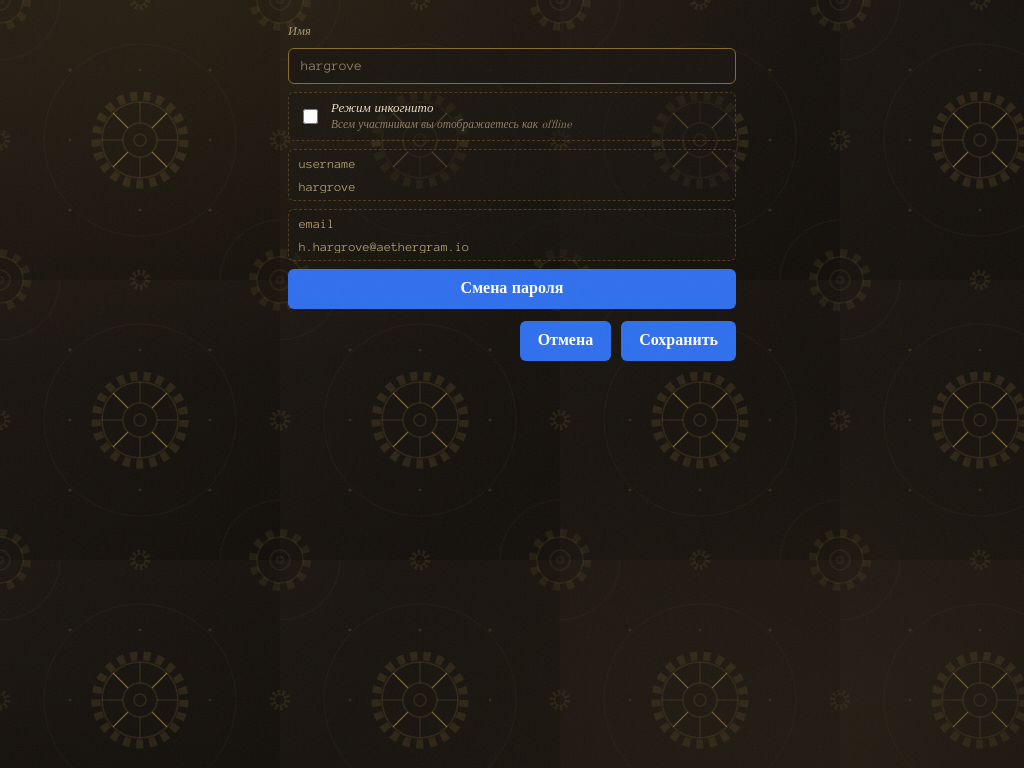
Test: ProfileModal › saves the unchanged off mode: PUT false, toast without the incognito suffix
Expected: the text "hargrove" is shown, [299,180,356,193]
What coordinates should you click on to do the following:
click the button "Сохранить"
I would click on:
 (679, 341)
Its box is [621,321,736,361].
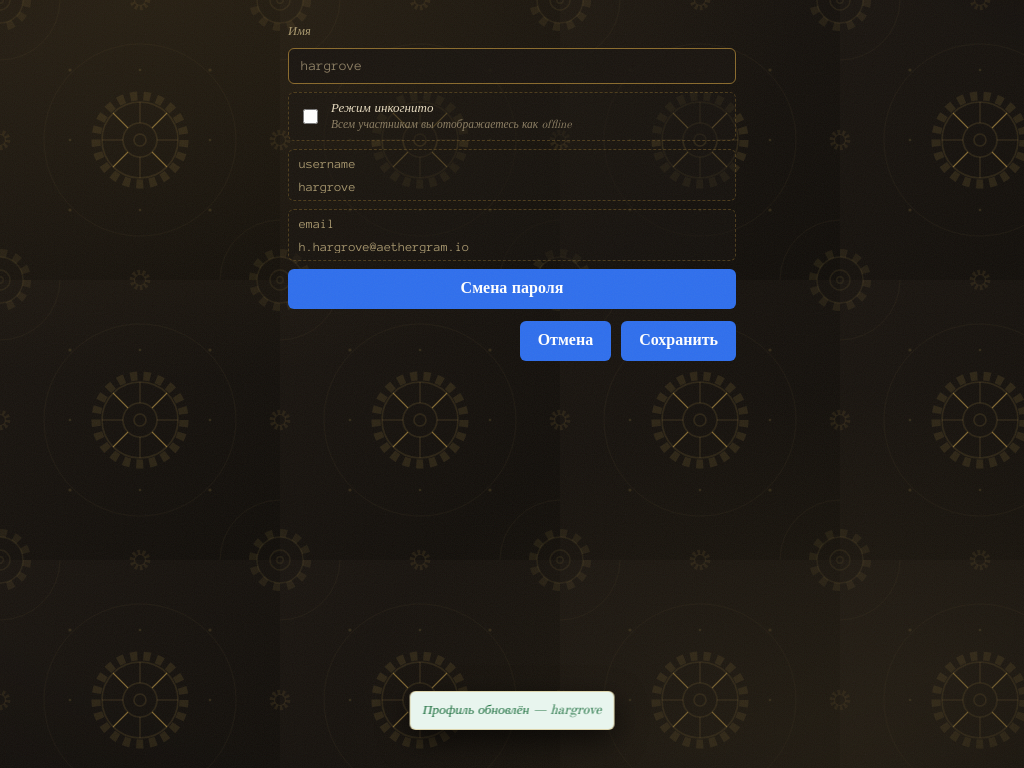
Now the text "Профиль обновлён — hargrove" is shown, box [410,691,614,730]
